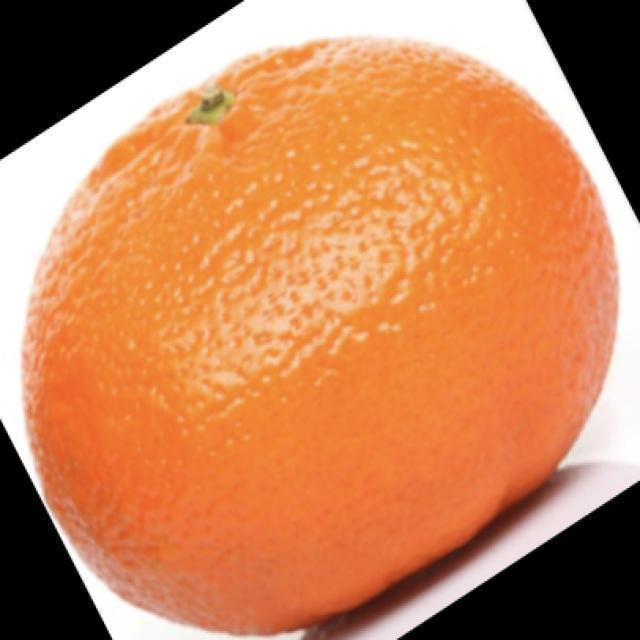matang: (24, 42, 616, 631)
